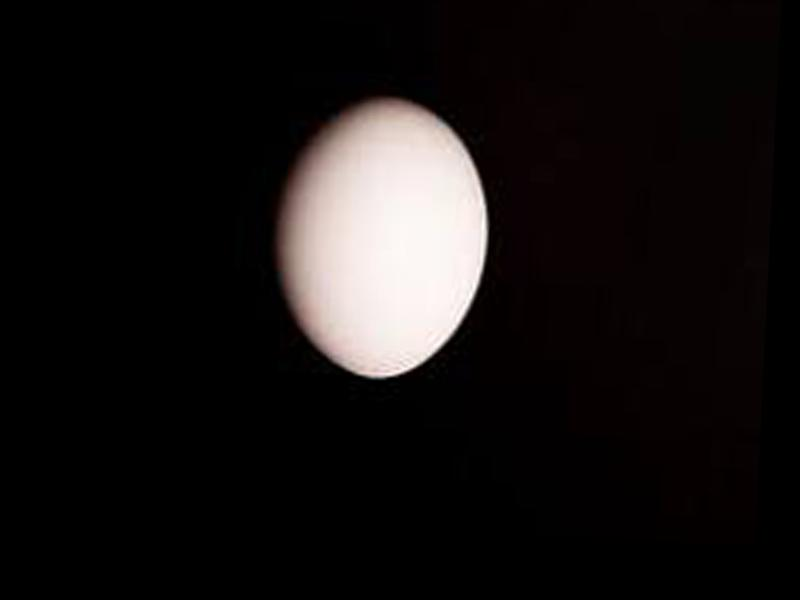Eggs: (271, 87, 494, 383)
